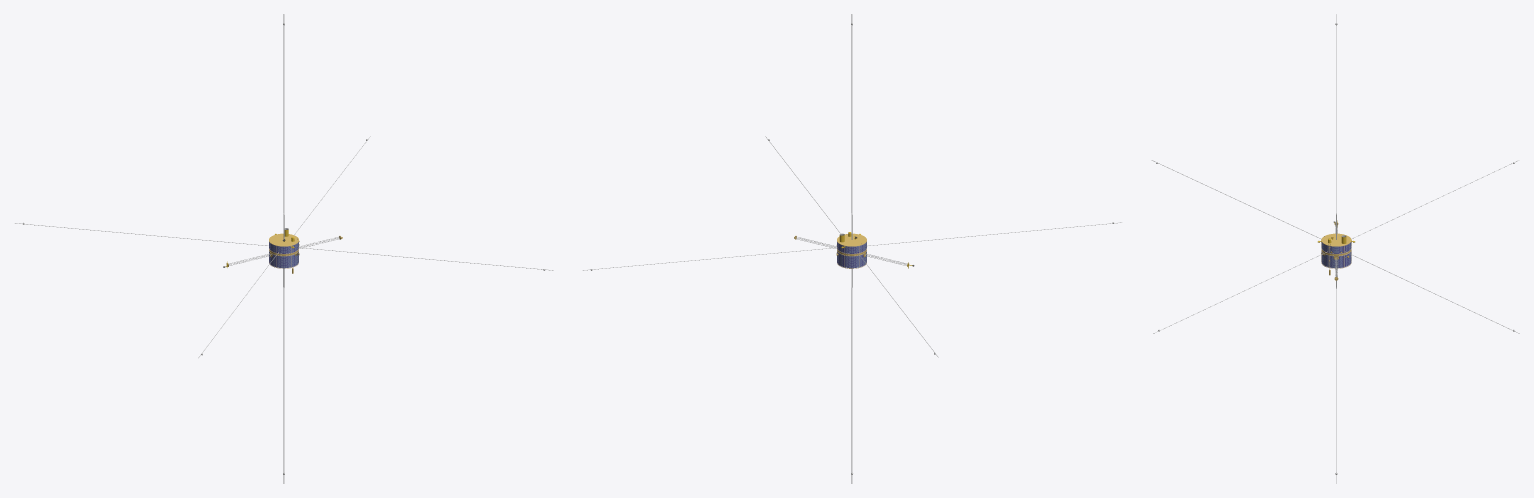
File: Wind.glb
3 views of the same model, side by side, from view 1: azimuth 30°, elevation 25°; view 2: azimuth 150°, elevation 25°; view 3: azimuth 270°, elevation 25° (orthographic).
Visible parts, largest first — view 1: Layer_0; view 2: Layer_0; view 3: Layer_0.
Part boxes in pixels (x1,y1,x2,y2): Layer_0: (14,14,553,483); Layer_0: (582,14,1122,483); Layer_0: (1151,14,1519,483).
Size of the model in its own units: 41.62 by 52.43 by 37.3.
